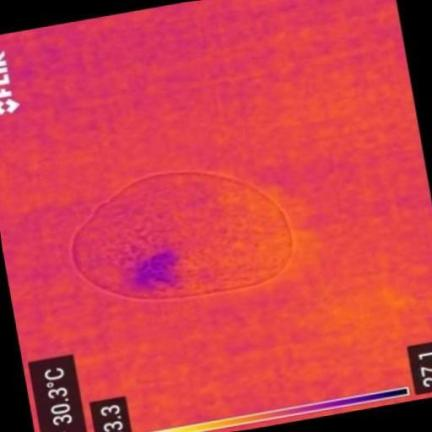mango: (73, 172, 292, 300)
